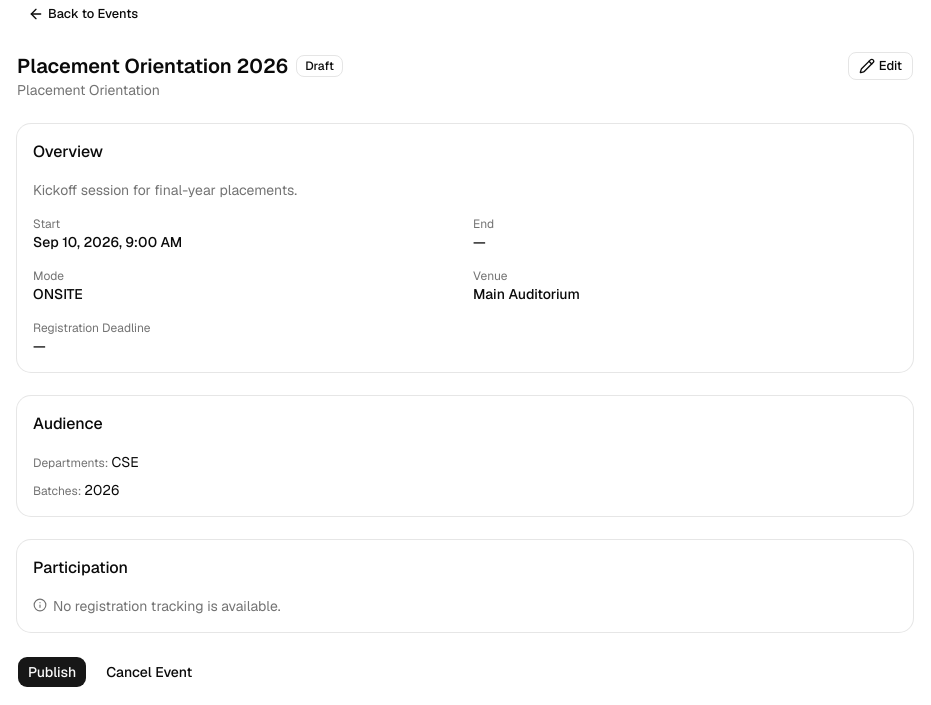
Test: InstitutionEventDetailView › transitions status after clicking the lifecycle action
Check: the heading "Placement Orientation 2026" is shown, box [17,52,288,80]
Click the button "Publish" at [52, 672], box [17,656,87,688]
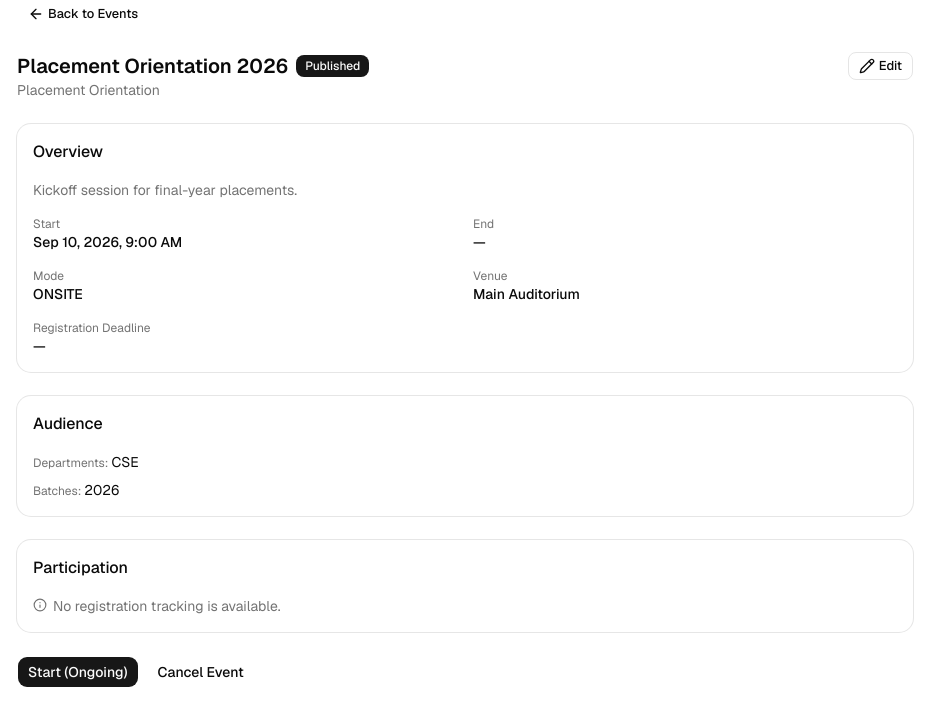
Check: the text "Published" is shown, box [296,55,370,77]
